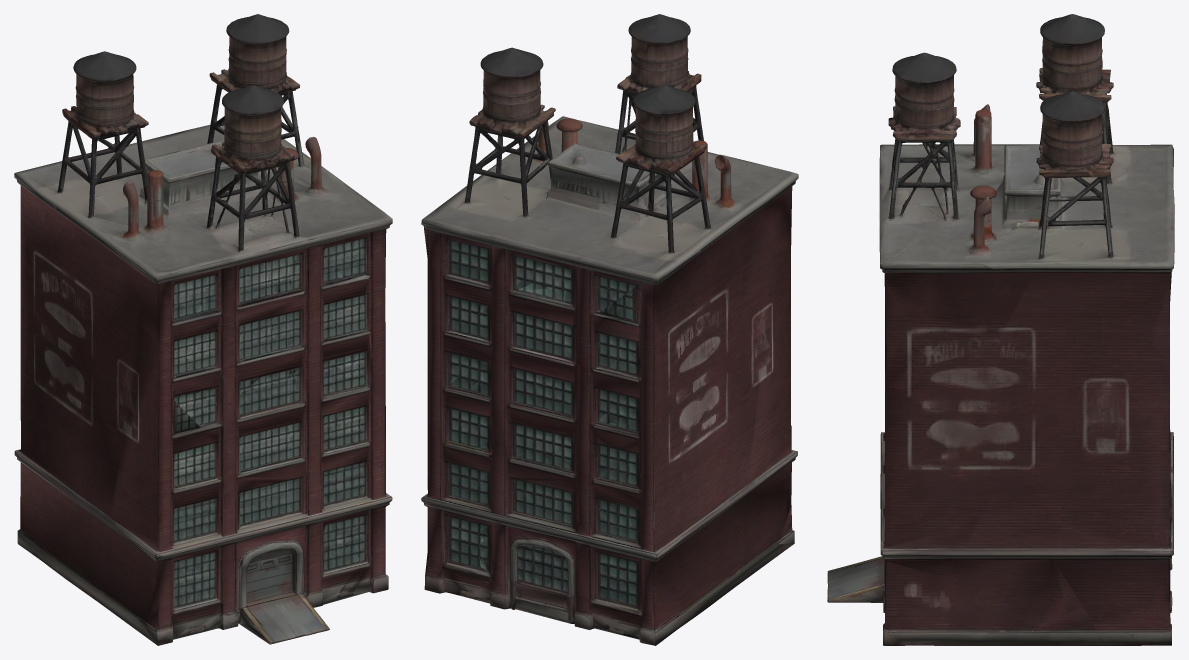
Rendered from warehouse.glb.
3 renders of one model, left to right at view 1: azimuth 30°, elevation 25°; view 2: azimuth 150°, elevation 25°; view 3: azimuth 270°, elevation 25°, orthographic. The views are drawn at different scales.
Visible parts, largest first — view 1: Mesh_0; view 2: Mesh_0; view 3: Mesh_0.
Part boxes in pixels (x1,y1,x2,y2): Mesh_0: [14, 14, 392, 645]; Mesh_0: [421, 14, 798, 645]; Mesh_0: [827, 14, 1174, 645].
Bounding box in the file's own units: 0.9201 × 1.91 × 1.12.
Materials: 1 (1 with a texture image).
